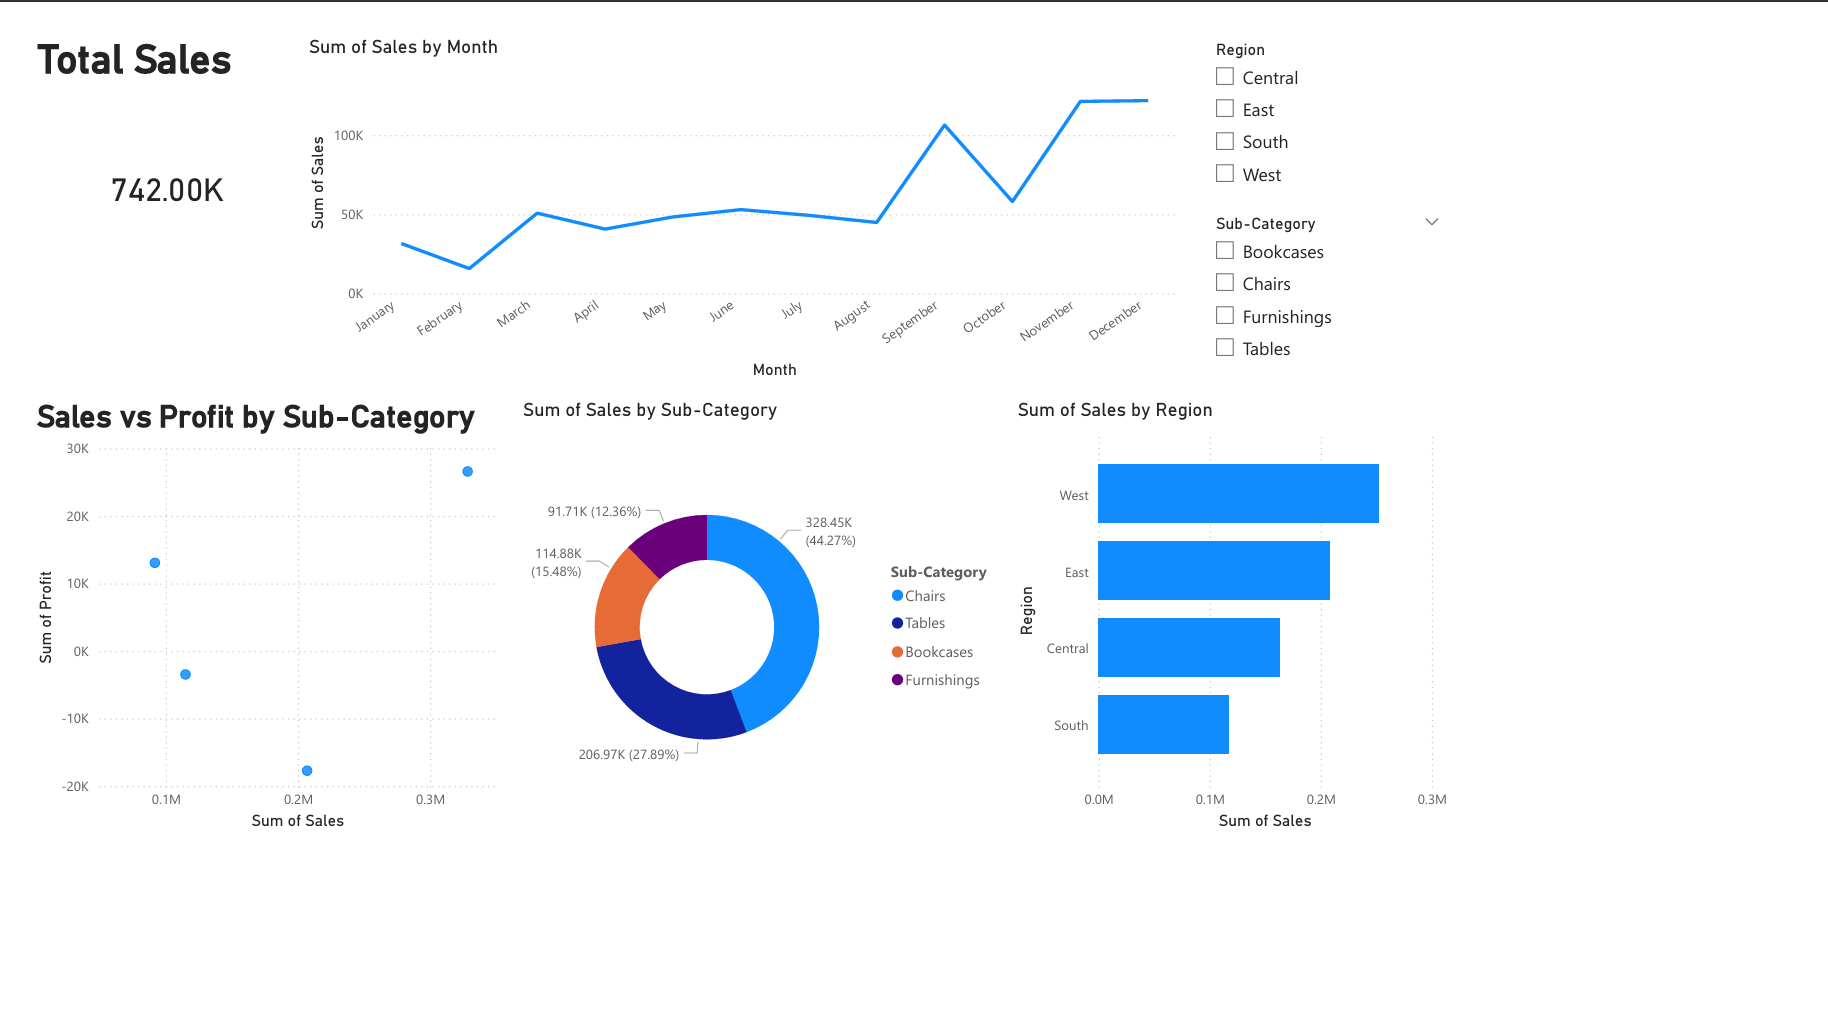

Layout of this report page (visuals, bound fields, positions):
{"tool":"powerbi","page":{"name":"Page 1","canvas":[1280,720],"ordinal":0},"visuals":[{"type":"card","title":"Total Sales","fields":{"Values":["Sum(stores_sales_forecasting.Sales)"]},"box":[0,0,245.1,232.6],"z":0},{"type":"lineChart","fields":{"Y":["Sum(stores_sales_forecasting.Sales)"],"Category":["stores_sales_forecasting.Order Date.Variation.Date Hierarchy.Month"]},"box":[244.4,0,790,314.7],"z":1},{"type":"clusteredBarChart","fields":{"Y":["Sum(stores_sales_forecasting.Sales)"],"Category":["stores_sales_forecasting.Region"]},"box":[883.2,327.2,396.8,393.1],"z":3},{"type":"scatterChart","title":"Sales vs Profit by Sub-Category","fields":{"X":["Sum(stores_sales_forecasting.Sales)"],"Y":["Sum(stores_sales_forecasting.Profit)"],"Category":["stores_sales_forecasting.Sub-Category"]},"box":[0,326.8,437.6,393],"z":4},{"type":"slicer","fields":{"Values":["stores_sales_forecasting.Region"]},"box":[1053.4,0,226.9,181],"z":5},{"type":"slicer","fields":{"Values":["stores_sales_forecasting.Sub-Category"]},"box":[1053.6,156.7,226.4,150.5],"z":7},{"type":"donutChart","fields":{"Category":["stores_sales_forecasting.Sub-Category"],"Y":["Sum(stores_sales_forecasting.Sales)"]},"box":[438,327,445,393],"z":8}]}

Visuals, with their boxes in screenshot pixels (x1, y1, x2, y2), scaled from the page's 1280x720 canvas onto the 1828x1036 screenshot:
"Total Sales" card: bbox=(0, 0, 350, 335)
lineChart - Sum(stores_sales_forecasting.Sales) x stores_sales_forecasting.Order Date.Variation.Date Hierarchy.Month: bbox=(349, 0, 1477, 453)
clusteredBarChart - Sum(stores_sales_forecasting.Sales) x stores_sales_forecasting.Region: bbox=(1261, 471, 1827, 1035)
"Sales vs Profit by Sub-Category" scatterChart: bbox=(0, 470, 625, 1035)
slicer - stores_sales_forecasting.Region: bbox=(1504, 0, 1827, 260)
slicer - stores_sales_forecasting.Sub-Category: bbox=(1505, 225, 1827, 442)
donutChart - stores_sales_forecasting.Sub-Category x Sum(stores_sales_forecasting.Sales): bbox=(626, 471, 1261, 1035)
